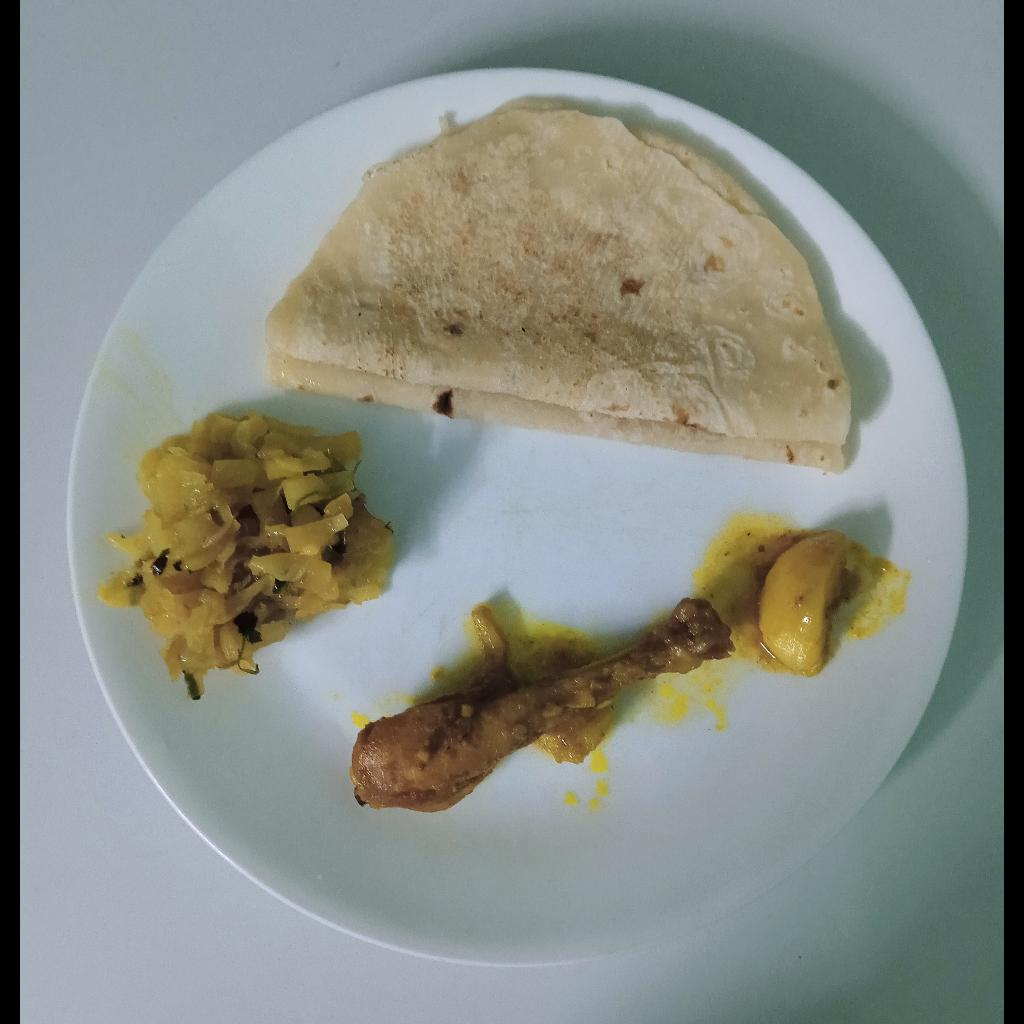cabbage: (96, 412, 392, 682)
chicken: (345, 596, 727, 813)
potato: (754, 533, 848, 677)
ruti: (259, 100, 853, 479)
